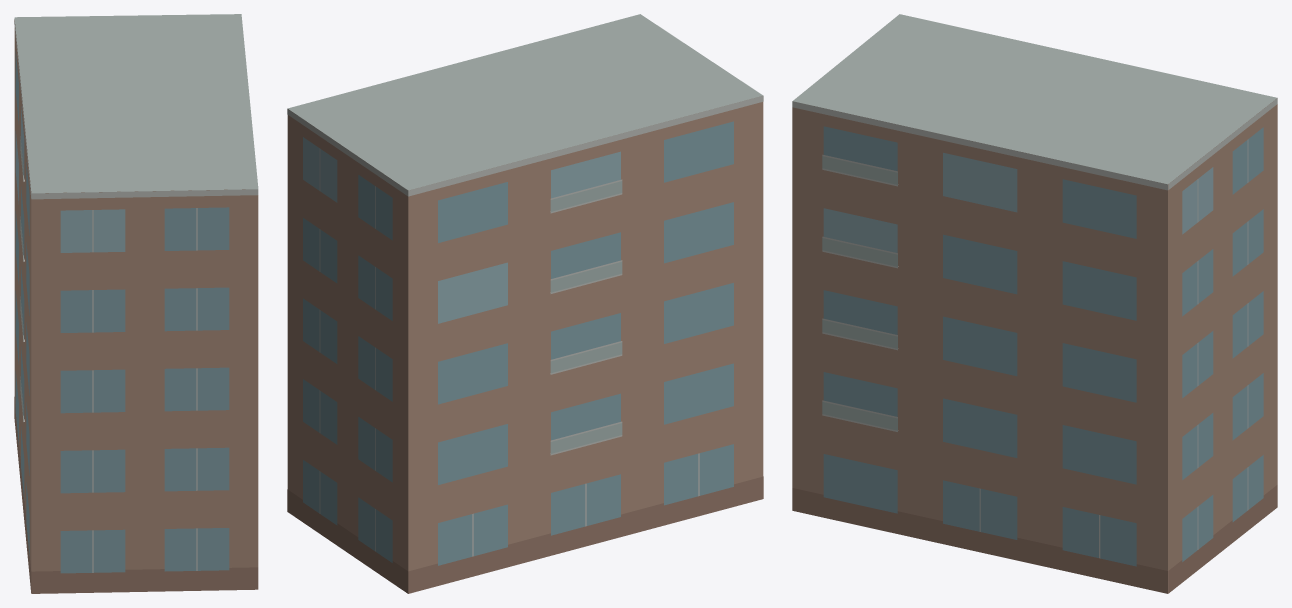
The model's file is survey-upis-32843578.glb.
3 views of the same model, side by side, from view 1: azimuth 30°, elevation 25°; view 2: azimuth 150°, elevation 25°; view 3: azimuth 270°, elevation 25° (orthographic). The views are drawn at different scales.
Parts seen in each view (by area): view 1: survey-upis-32843578.tmp; view 2: survey-upis-32843578.tmp; view 3: survey-upis-32843578.tmp.
Part boxes in pixels (<box>): survey-upis-32843578.tmp: <box>14,14,258,593</box>; survey-upis-32843578.tmp: <box>287,14,763,593</box>; survey-upis-32843578.tmp: <box>792,14,1277,593</box>.
Size of the model in its own units: 14.55 by 16.3 by 17.51.
